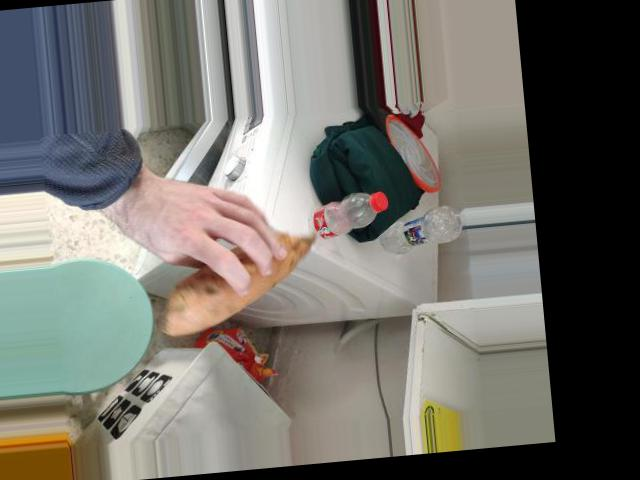sweet_potato: (180, 205, 312, 331)
